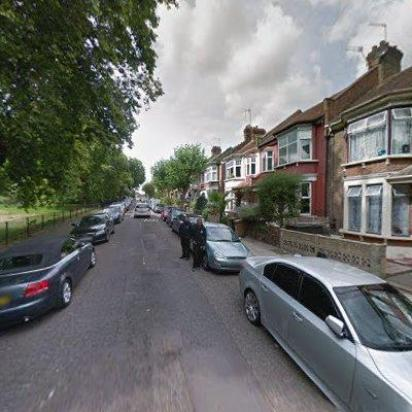moving-car: (132, 203, 152, 219)
stationary-car-onstreet: (237, 254, 411, 410), (0, 232, 96, 334), (178, 219, 252, 274), (68, 213, 114, 244), (170, 214, 207, 234), (103, 206, 123, 224), (165, 209, 181, 225), (160, 206, 174, 221), (154, 202, 166, 214)
